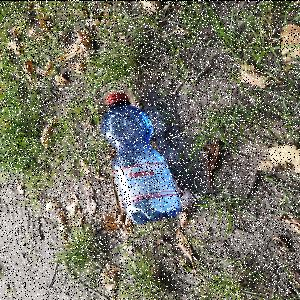Plastic-bottle: (100, 92, 184, 226)
